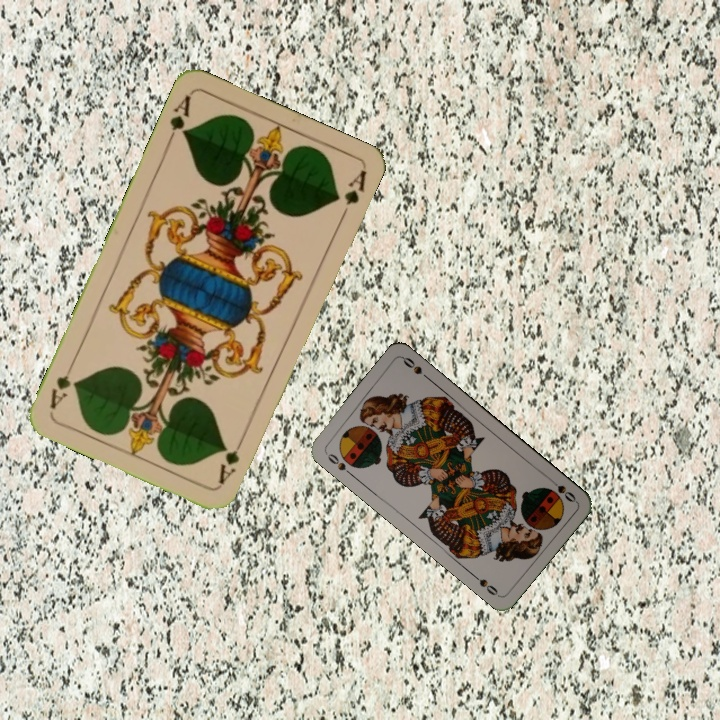GA: (214, 432, 247, 487), (163, 91, 194, 147)
SO: (545, 474, 579, 505), (321, 447, 355, 478)
